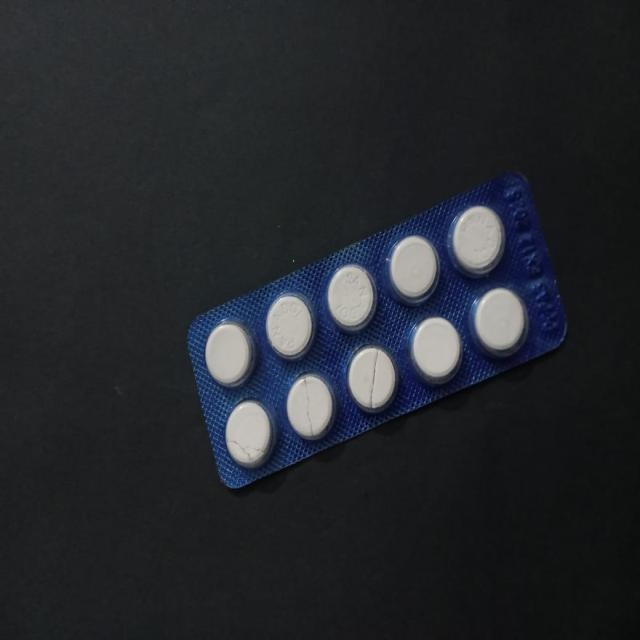defect: (223, 397, 277, 472), (344, 344, 399, 416), (284, 370, 336, 444)
